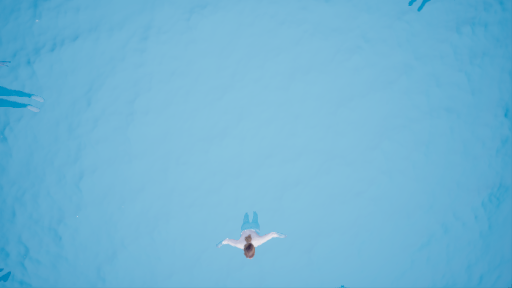person: (221, 212, 286, 259)
